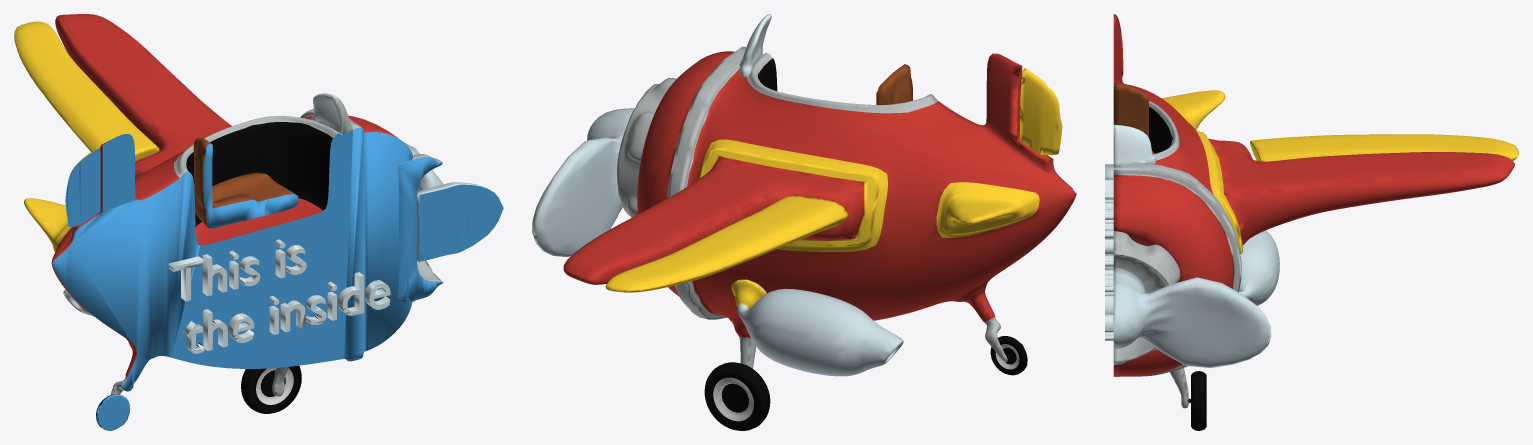
Rendered from avionHalf6.gltf.
3 renders of one model, left to right at view 1: azimuth 30°, elevation 25°; view 2: azimuth 150°, elevation 25°; view 3: azimuth 270°, elevation 25°, orthographic. The views are drawn at different scales.
Visible parts, largest first — view 1: Cylinder.010; view 2: Cylinder.010; view 3: Cylinder.010.
Part boxes in pixels (x1,y1,x2,y2): Cylinder.010: (14,14,503,430); Cylinder.010: (532,14,1076,430); Cylinder.010: (1105,14,1518,430).
Size of the model in its own units: 8.59 by 6.55 by 7.58.
